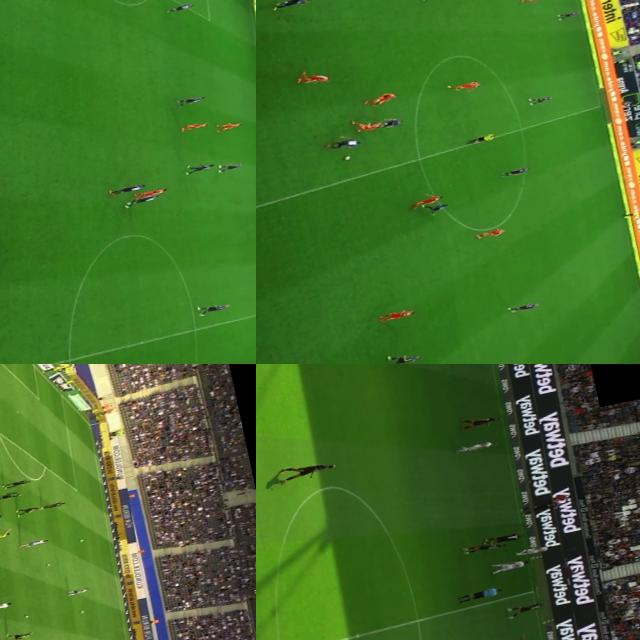ball: (339, 151, 354, 162), (554, 496, 568, 505), (79, 609, 84, 613), (80, 536, 84, 540), (24, 614, 30, 616), (46, 562, 50, 564)
player: (276, 456, 340, 482), (293, 64, 334, 88), (506, 597, 547, 616), (385, 346, 425, 364), (490, 557, 530, 575), (466, 536, 506, 554), (446, 75, 484, 93), (484, 528, 521, 546), (458, 412, 499, 428), (376, 306, 416, 322), (408, 192, 445, 209), (195, 298, 234, 314), (108, 180, 147, 196), (516, 540, 554, 556), (134, 182, 170, 198), (350, 115, 382, 133), (458, 438, 498, 452), (122, 192, 160, 206), (371, 114, 403, 130), (366, 90, 400, 105), (186, 158, 217, 174), (420, 198, 450, 214), (178, 118, 214, 131), (476, 224, 506, 238), (165, 0, 196, 12), (507, 300, 538, 312), (528, 92, 556, 105), (4, 628, 34, 640), (214, 159, 243, 171), (13, 503, 42, 515), (364, 634, 419, 640), (273, 0, 313, 8), (175, 94, 204, 105), (216, 118, 242, 130), (503, 166, 530, 177), (20, 537, 48, 547), (2, 477, 30, 487), (556, 8, 580, 19), (486, 634, 525, 640), (0, 489, 21, 500), (40, 499, 64, 508), (66, 586, 88, 594), (0, 598, 13, 611), (519, 637, 556, 640)
